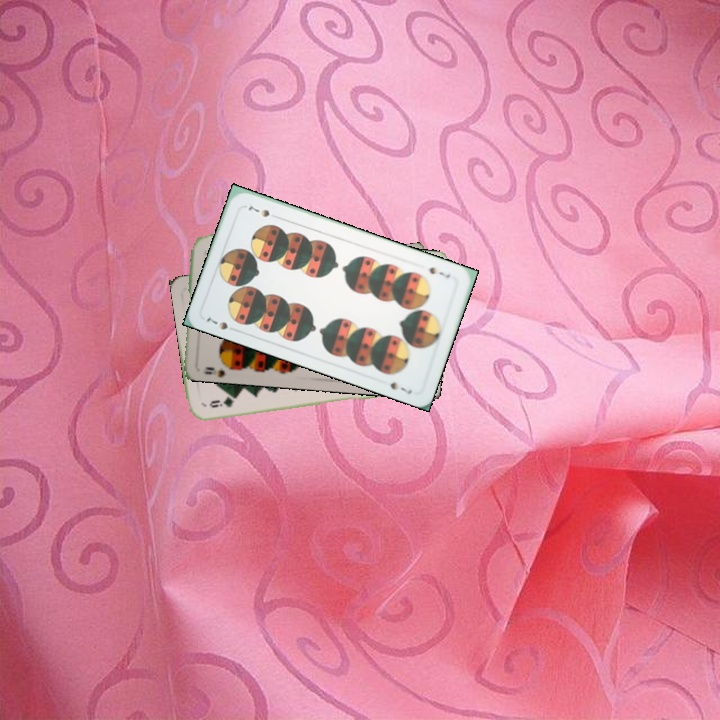G9: (205, 393, 239, 410)
S7: (202, 313, 230, 332), (423, 263, 453, 280)
S9: (202, 358, 236, 373)
